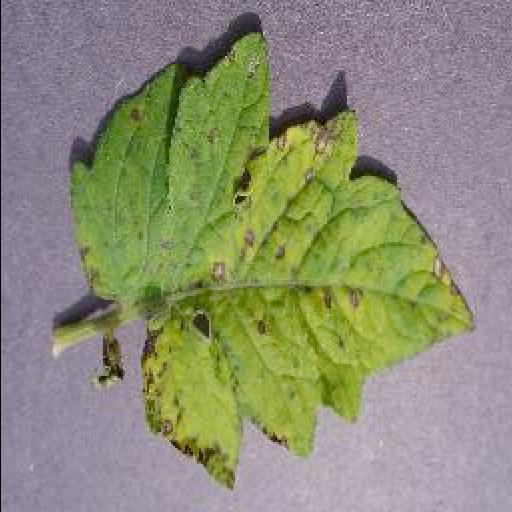disease_tomato: (72, 28, 472, 486)
